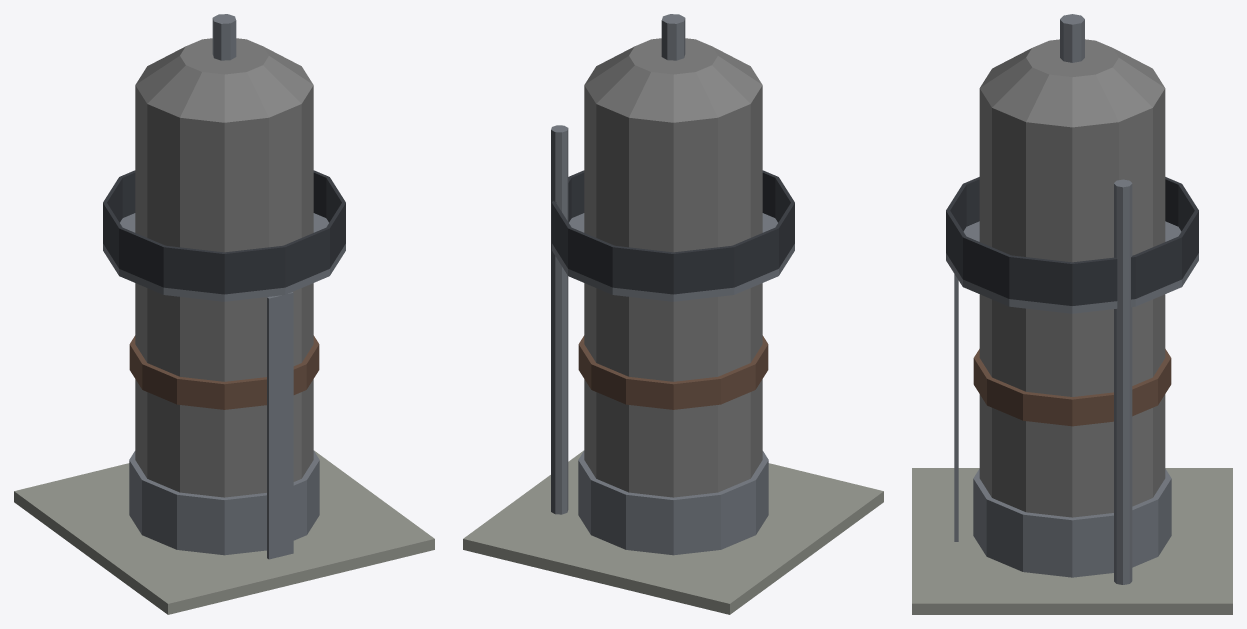
File: mashup-cylinder2-mid-prebuilt.fbx
3 renders of one model, left to right at view 1: azimuth 30°, elevation 25°; view 2: azimuth 150°, elevation 25°; view 3: azimuth 270°, elevation 25°, orthographic. The views are drawn at different scales.
Visible parts, largest first — view 1: ChemPlant_ColumnSmall; view 2: ChemPlant_ColumnSmall; view 3: ChemPlant_ColumnSmall.
Part boxes in pixels (<box>): ChemPlant_ColumnSmall: <box>14,14,434,614</box>; ChemPlant_ColumnSmall: <box>463,14,883,614</box>; ChemPlant_ColumnSmall: <box>912,14,1232,614</box>.
Bounding box in the file's own units: 7.6 × 13.8 × 7.6.
